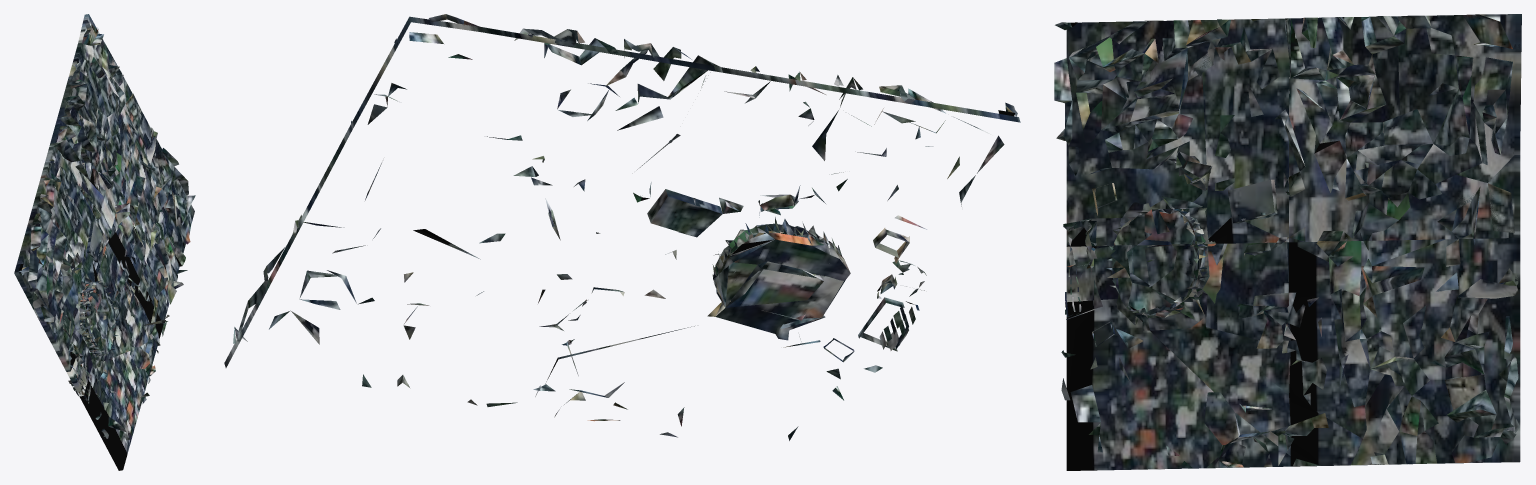
The picture shows the model from 3 angles, left to right: view 1: azimuth 30°, elevation 25°; view 2: azimuth 150°, elevation 25°; view 3: azimuth 270°, elevation 25°; orthographic projection. The views are drawn at different scales.
Visible parts, largest first — view 1: node_0; view 2: node_0; view 3: node_0.
Boxes of the visible parts, <box> form: node_0: <box>14,14,195,470</box>; node_0: <box>224,14,1020,440</box>; node_0: <box>1054,14,1521,470</box>.
Size of the model in its own units: 1162 by 1164 by 921.
1 material, 1 textured.
